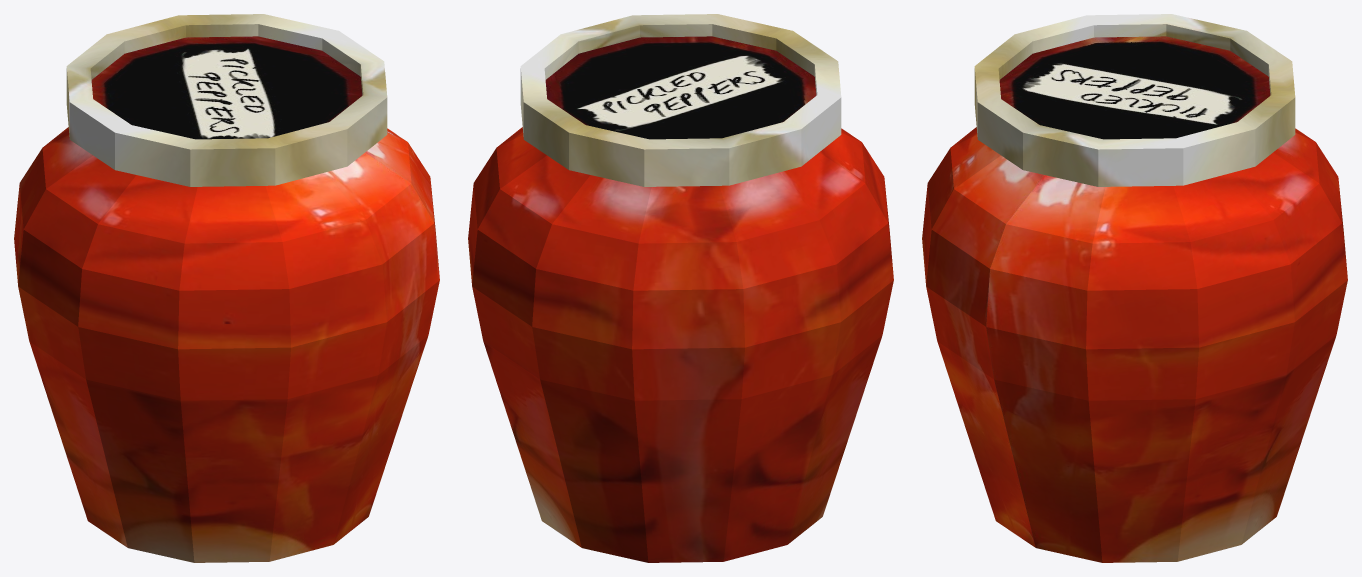
Rendered from pickledpeppers.fbx.
3 renders of one model, left to right at view 1: azimuth 30°, elevation 25°; view 2: azimuth 150°, elevation 25°; view 3: azimuth 270°, elevation 25°, orthographic.
Parts seen in each view (by area): view 1: PickledJar.009; view 2: PickledJar.009; view 3: PickledJar.009.
Boxes of the visible parts, x1,y1,x2,y2 form: PickledJar.009: (14,14,439,562); PickledJar.009: (468,14,893,562); PickledJar.009: (922,14,1347,562).
Bounding box in the file's own units: 39.7 × 43.33 × 39.7.
